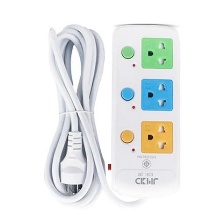three_eye_plug: (100, 21, 182, 204)
